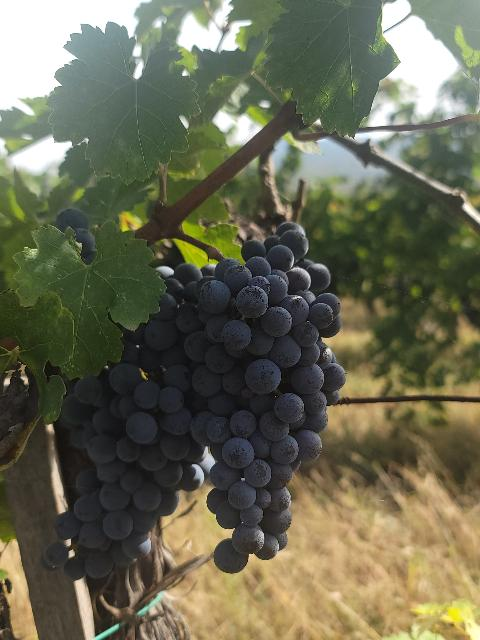grapes: (160, 226, 346, 570), (41, 294, 210, 579)
